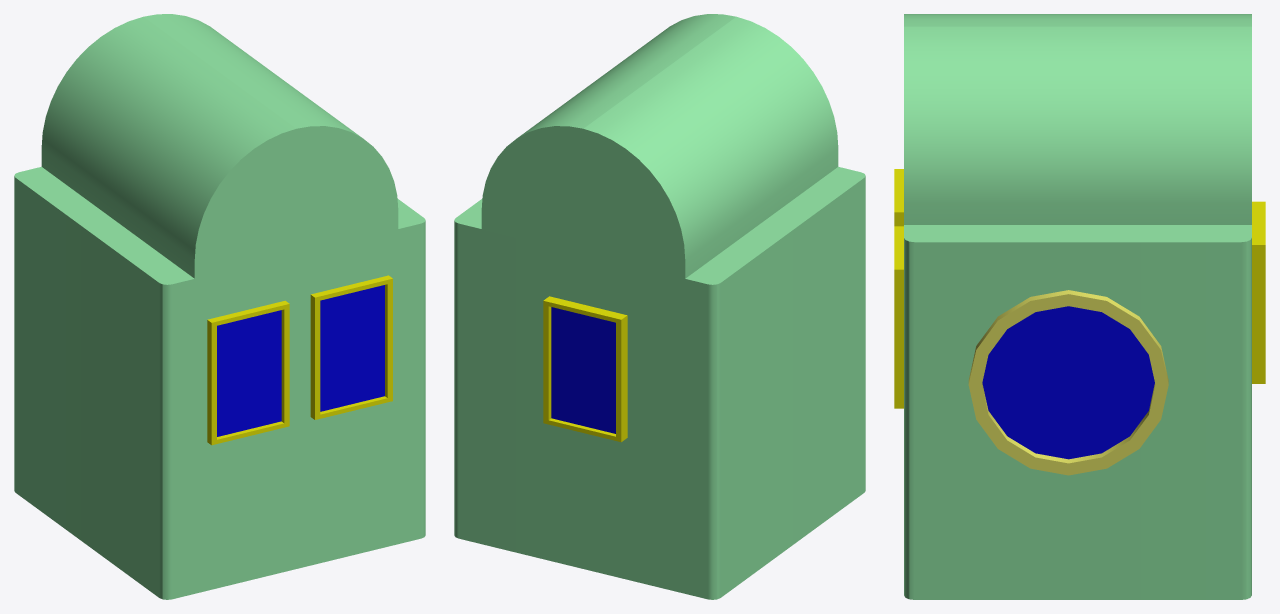
The picture shows the model from 3 angles, left to right: view 1: azimuth 30°, elevation 25°; view 2: azimuth 150°, elevation 25°; view 3: azimuth 270°, elevation 25°; orthographic projection. The views are drawn at different scales.
Parts seen in each view (by area): view 1: polySurface98, pCube71, polySurface106, polySurface109; view 2: polySurface98, pCube71, polySurface111; view 3: polySurface98, pCube71, pTorus6, polySurface111, polySurface109, polySurface106.
Part boxes in pixels (x1=…): polySurface98: x1=14, y1=167, x2=425, y2=599; pCube71: x1=41, y1=14, x2=398, y2=278; polySurface106: x1=207, y1=300, x2=289, y2=445; polySurface109: x1=310, y1=275, x2=392, y2=419; polySurface98: x1=454, y1=167, x2=865, y2=599; pCube71: x1=481, y1=14, x2=838, y2=278; polySurface111: x1=543, y1=296, x2=627, y2=442; polySurface98: x1=904, y1=225, x2=1251, y2=599; pCube71: x1=904, y1=14, x2=1251, y2=224; pTorus6: x1=968, y1=290, x2=1168, y2=475; polySurface111: x1=1252, y1=201, x2=1265, y2=383; polySurface109: x1=894, y1=226, x2=903, y2=408; polySurface106: x1=894, y1=169, x2=903, y2=226.
Size of the model in its own units: 2261 by 3458 by 2328.
